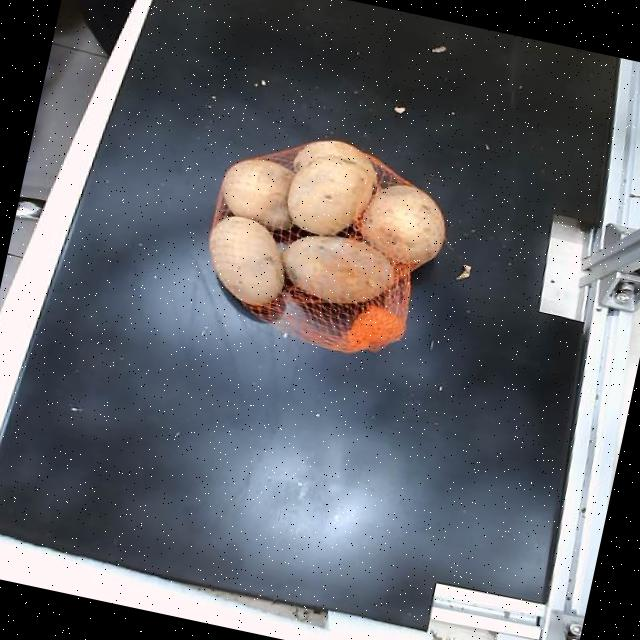potato: (282, 234, 393, 303), (360, 183, 445, 263), (287, 155, 372, 234), (208, 215, 284, 302), (220, 158, 293, 228), (292, 139, 376, 180)
